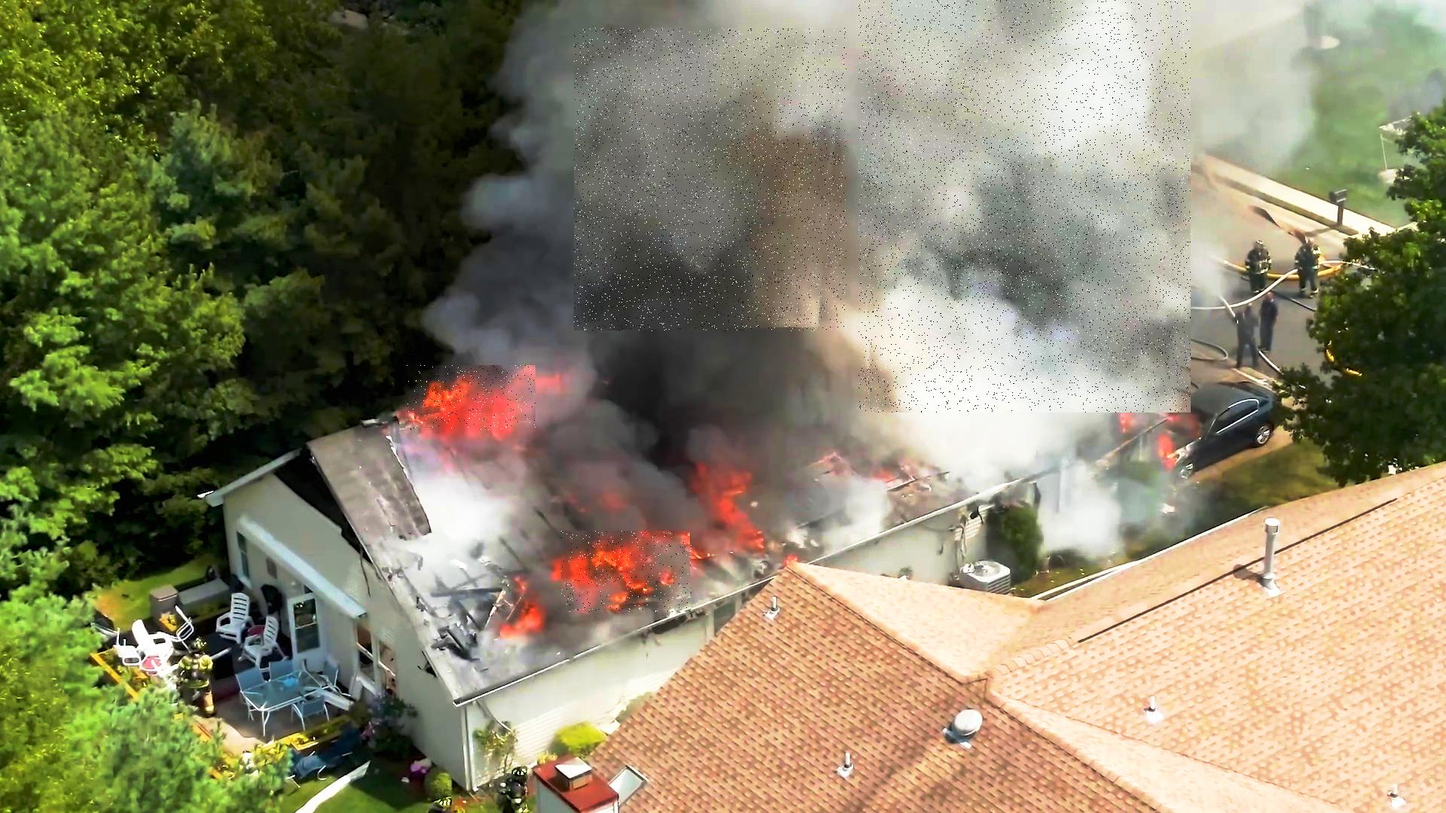fire: (562, 531, 692, 613), (405, 366, 536, 431)
smoke: (859, 0, 1191, 413), (575, 28, 847, 331)
